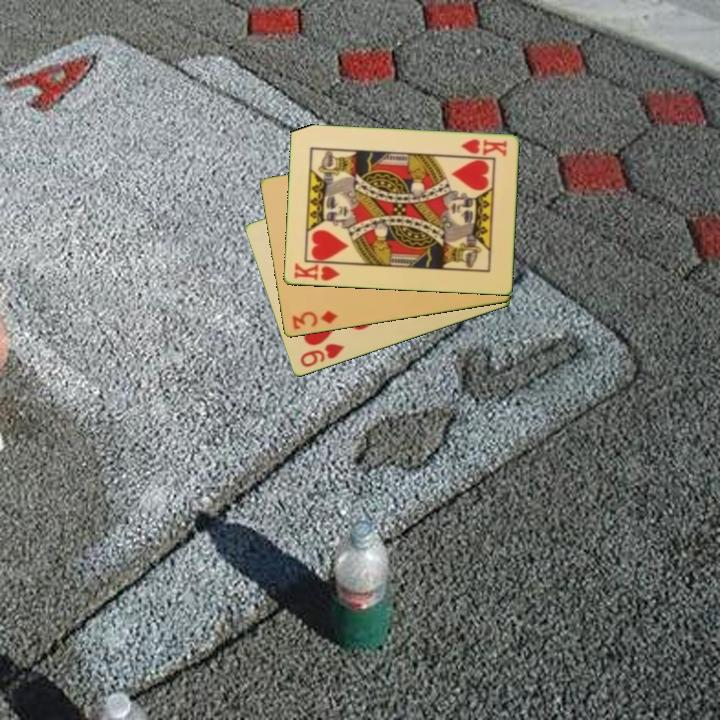3d: (288, 307, 341, 333)
9h: (296, 340, 347, 371)
Kh: (290, 259, 346, 284), (457, 136, 510, 160)
